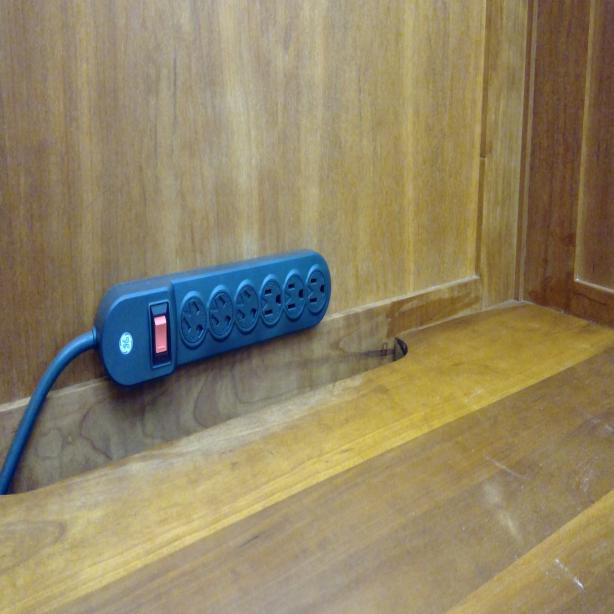typeb: (208, 292, 234, 341), (234, 284, 261, 331), (180, 297, 206, 344), (282, 274, 306, 317), (305, 267, 327, 313), (261, 281, 281, 324)
